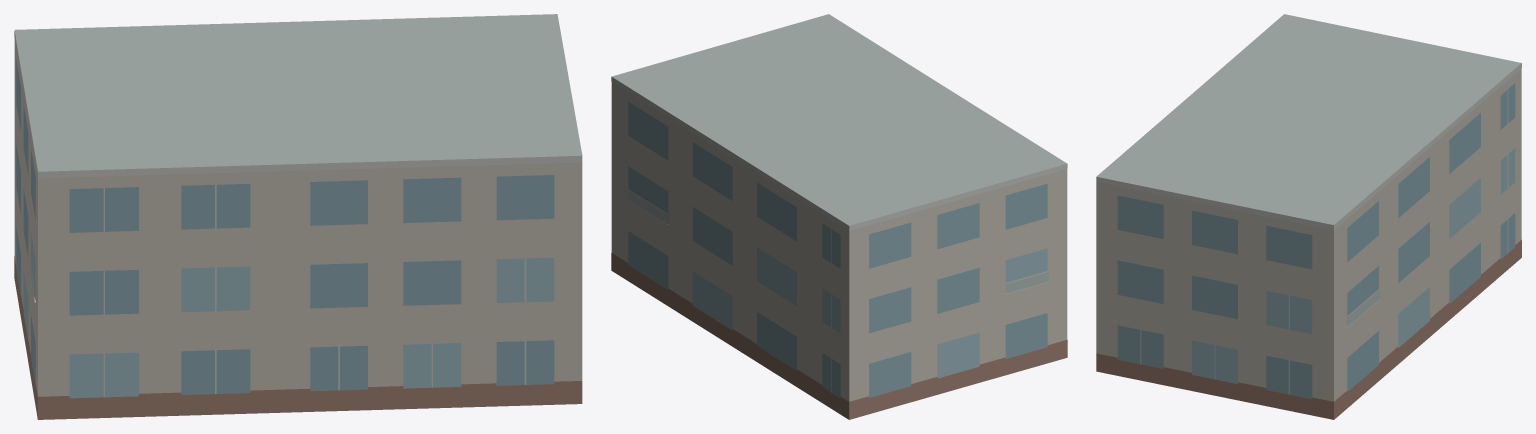
The model's file is survey-upis-32553112.glb.
3 renders of one model, left to right at view 1: azimuth 30°, elevation 25°; view 2: azimuth 150°, elevation 25°; view 3: azimuth 270°, elevation 25°, orthographic. The views are drawn at different scales.
Visible parts, largest first — view 1: survey-upis-32553112.tmp; view 2: survey-upis-32553112.tmp; view 3: survey-upis-32553112.tmp.
Part boxes in pixels (x1,y1,x2,y2): survey-upis-32553112.tmp: (14, 14, 582, 419); survey-upis-32553112.tmp: (611, 14, 1067, 419); survey-upis-32553112.tmp: (1096, 14, 1521, 419).
Bounding box in the file's own units: 21.28 × 9.15 × 18.12.
